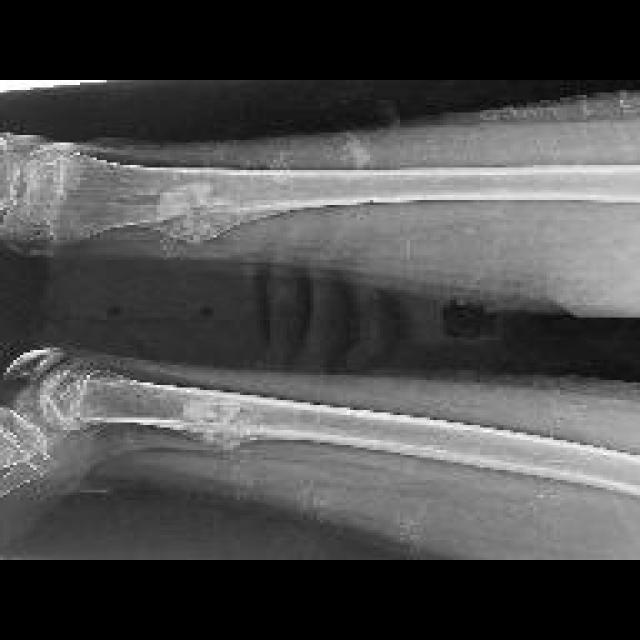bone-cancer: (150, 182, 267, 248), (164, 399, 265, 452)
